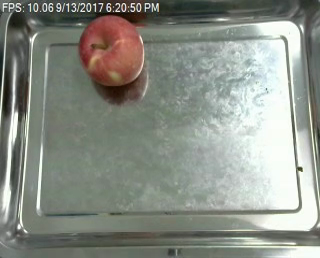Apple: (77, 8, 145, 92)
